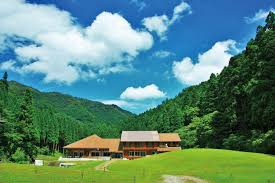field: (2, 153, 275, 181)
house: (65, 132, 185, 162)
mountain: (154, 42, 275, 153), (8, 87, 151, 150)
sky: (1, 2, 253, 91)
